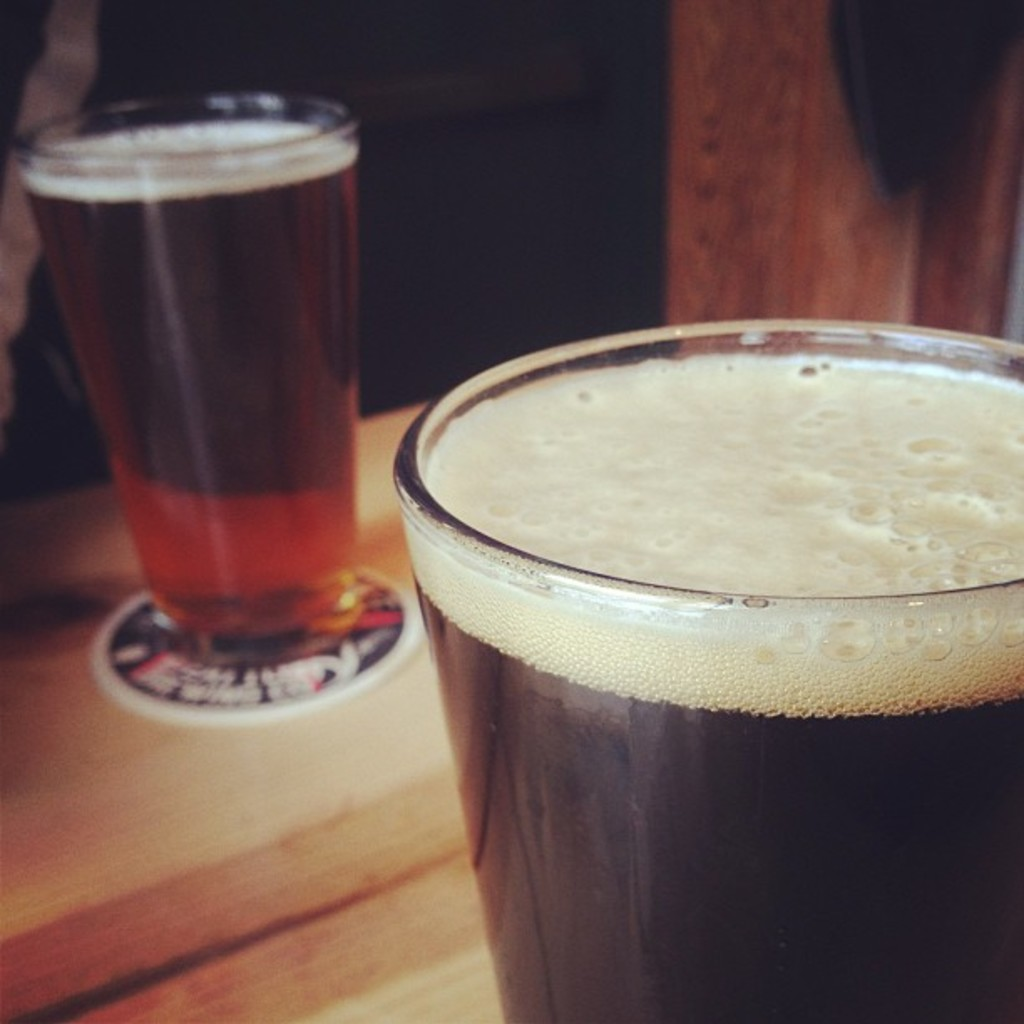Beer: (12, 92, 363, 666)
